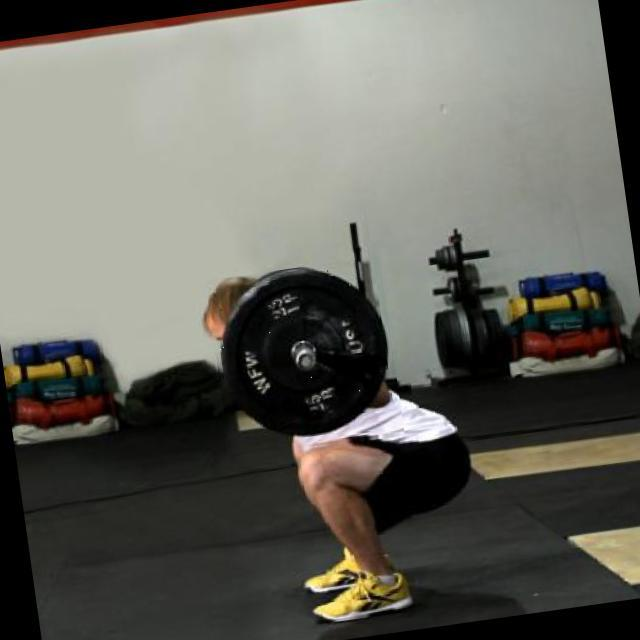barbell: (207, 258, 406, 461)
